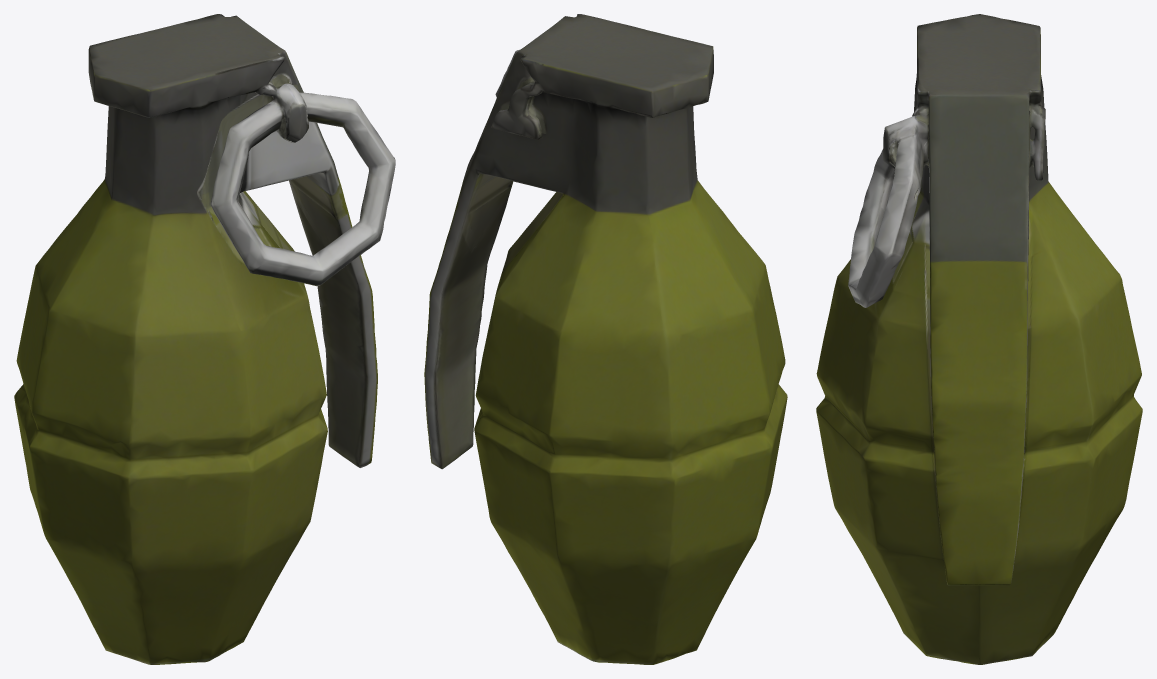
File: Model_Granade.fbx
3 renders of one model, left to right at view 1: azimuth 30°, elevation 25°; view 2: azimuth 150°, elevation 25°; view 3: azimuth 270°, elevation 25°, orthographic.
Visible parts, largest first — view 1: Mesh1.0; view 2: Mesh1.0; view 3: Mesh1.0.
Part boxes in pixels (left/top/right/bottom): Mesh1.0: left=14, top=14, right=395, bottom=664; Mesh1.0: left=424, top=14, right=787, bottom=664; Mesh1.0: left=816, top=14, right=1142, bottom=664.
Size of the model in its own units: 119 by 201 by 102.
Materials: 1 (1 with a texture image).
